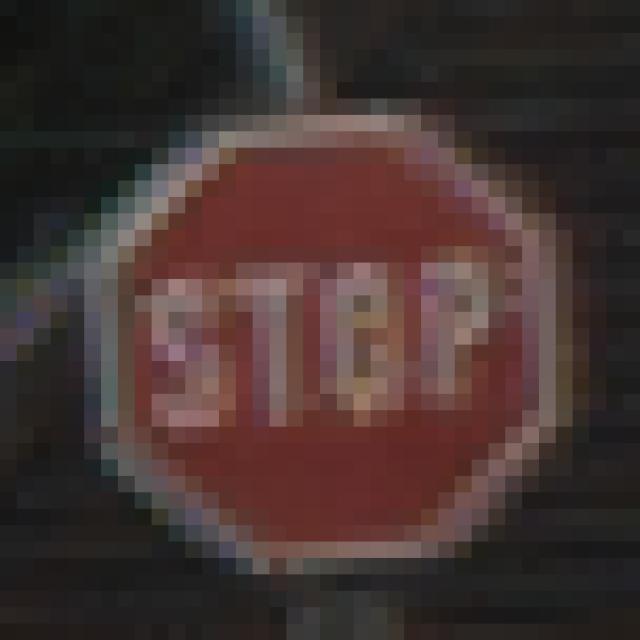STOP: (85, 100, 540, 543)
